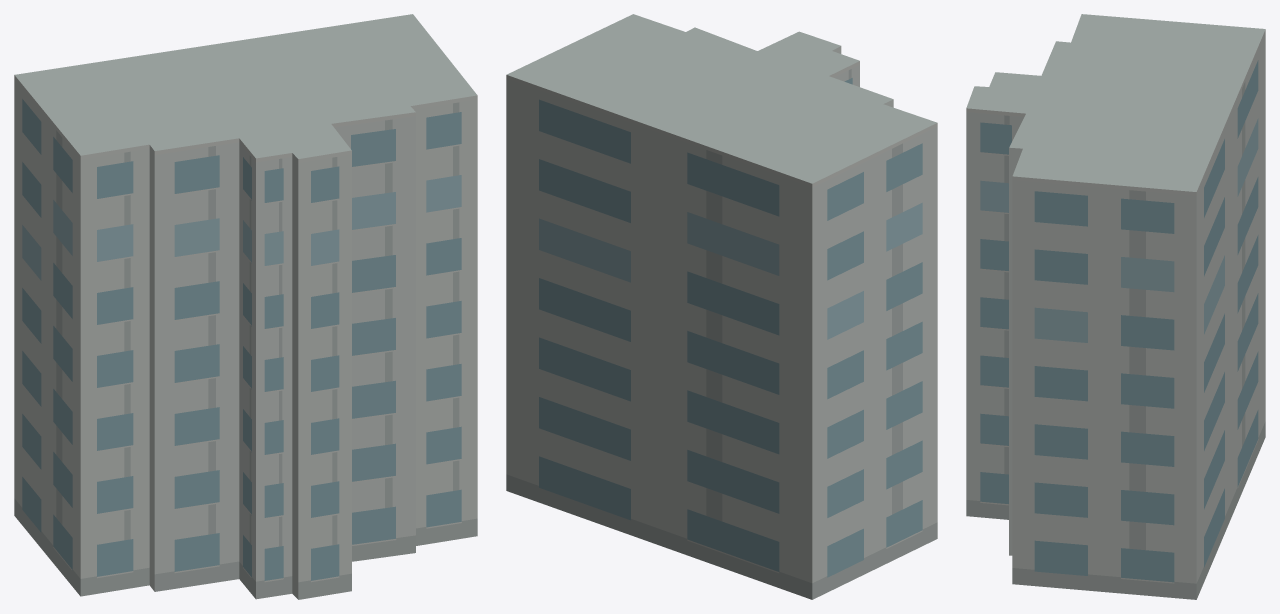
Rendered from survey-upis-32701864.glb.
3 views of the same model, side by side, from view 1: azimuth 30°, elevation 25°; view 2: azimuth 150°, elevation 25°; view 3: azimuth 270°, elevation 25° (orthographic). The views are drawn at different scales.
Parts seen in each view (by area): view 1: survey-upis-32701864.tmp; view 2: survey-upis-32701864.tmp; view 3: survey-upis-32701864.tmp.
Part boxes in pixels (<box>): survey-upis-32701864.tmp: <box>14,14,477,599</box>; survey-upis-32701864.tmp: <box>506,14,937,599</box>; survey-upis-32701864.tmp: <box>966,14,1265,599</box>.
Bounding box in the file's own units: 24.83 × 26.5 × 17.65.
